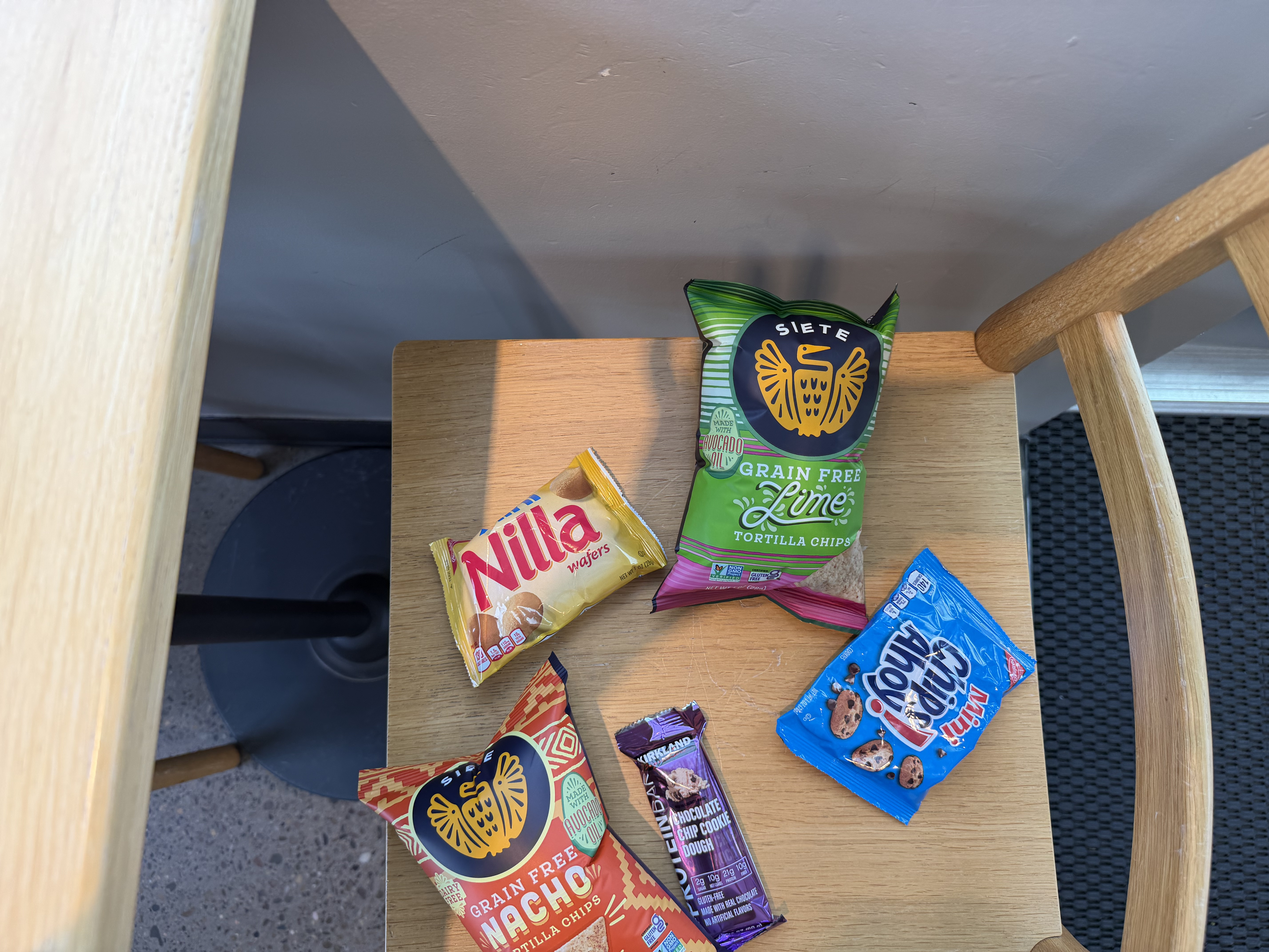chips_ahoy: (824, 567, 1011, 818)
chocolate_chip_cookie_dough: (627, 696, 794, 936)
lime: (663, 265, 901, 628)
nacho: (344, 672, 675, 952)
nilla: (426, 476, 660, 672)
